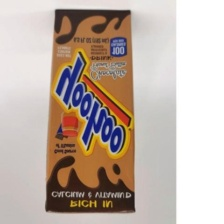carton: (42, 5, 151, 218)
